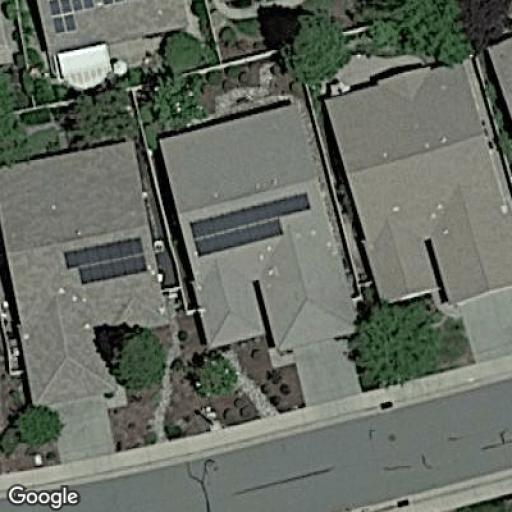solar-panel: (187, 191, 313, 260), (62, 235, 150, 286), (46, 0, 124, 33)
